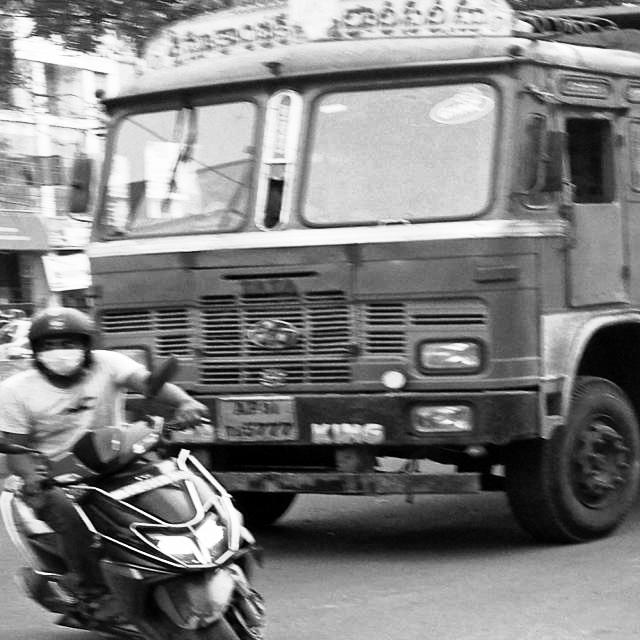HCV: (104, 51, 640, 526)
